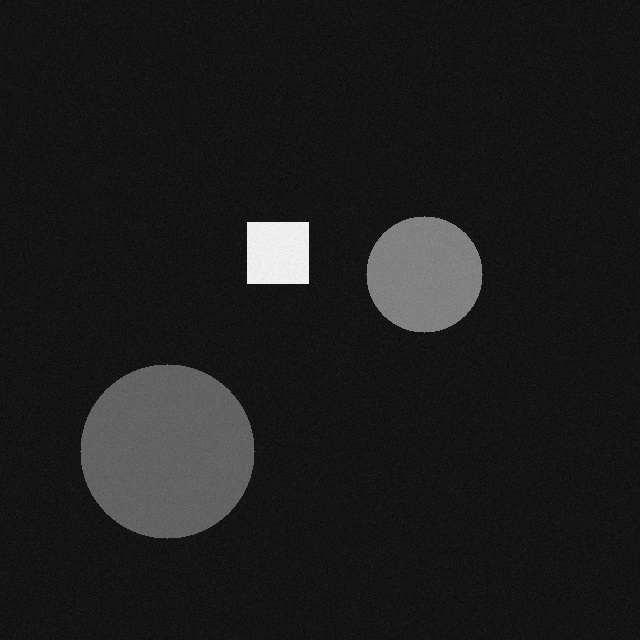circle: (90, 349, 264, 523), (376, 201, 492, 317)
square: (257, 207, 318, 268)
